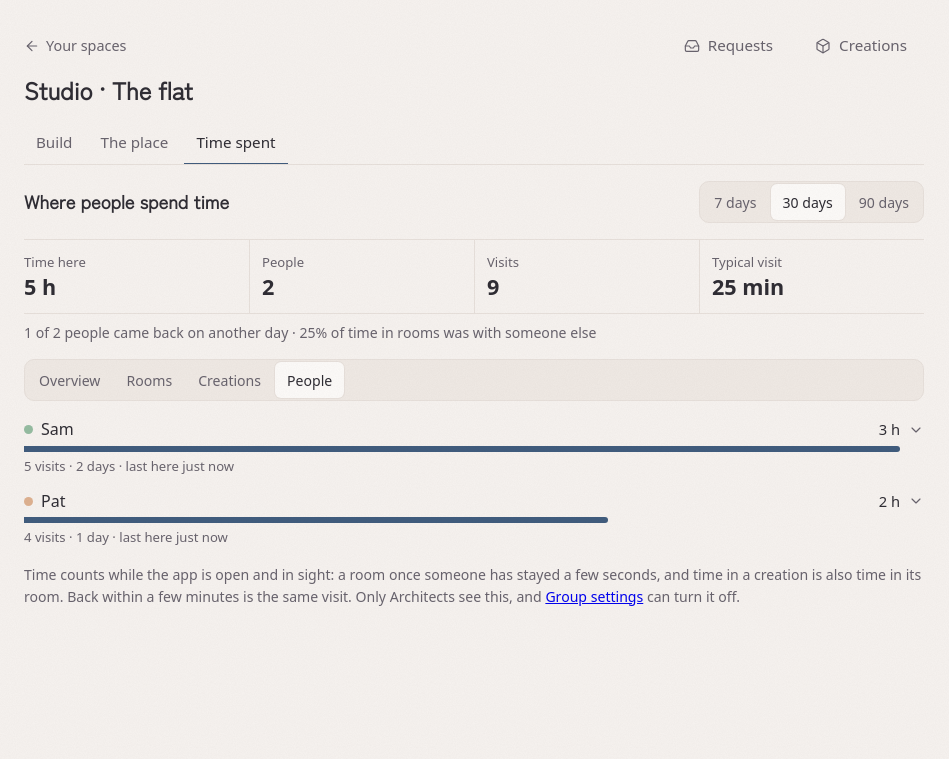
Test: where people spend time › opens each person onto their own rooms, creations and hours
This screenshot has width=949, height=759.
Click the button "Sam 3 h 5 visits · 2 days · last here just now". click: (474, 447)
box: [16, 409, 932, 484]
(page scrolled)
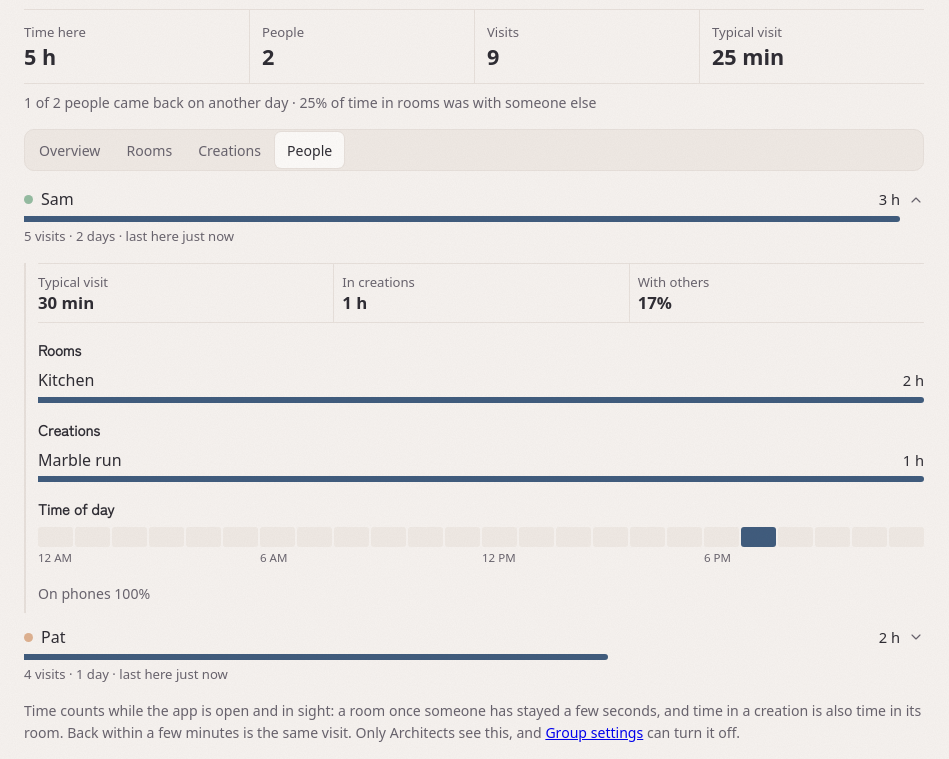
expect the button "Sam 3 h 5 visits · 2 days · last here just now" is expanded: met, box [16, 179, 932, 254]
expect the picture "12 AM 6 AM 12 PM 6 PM" is shown: met, box [38, 527, 924, 567]
